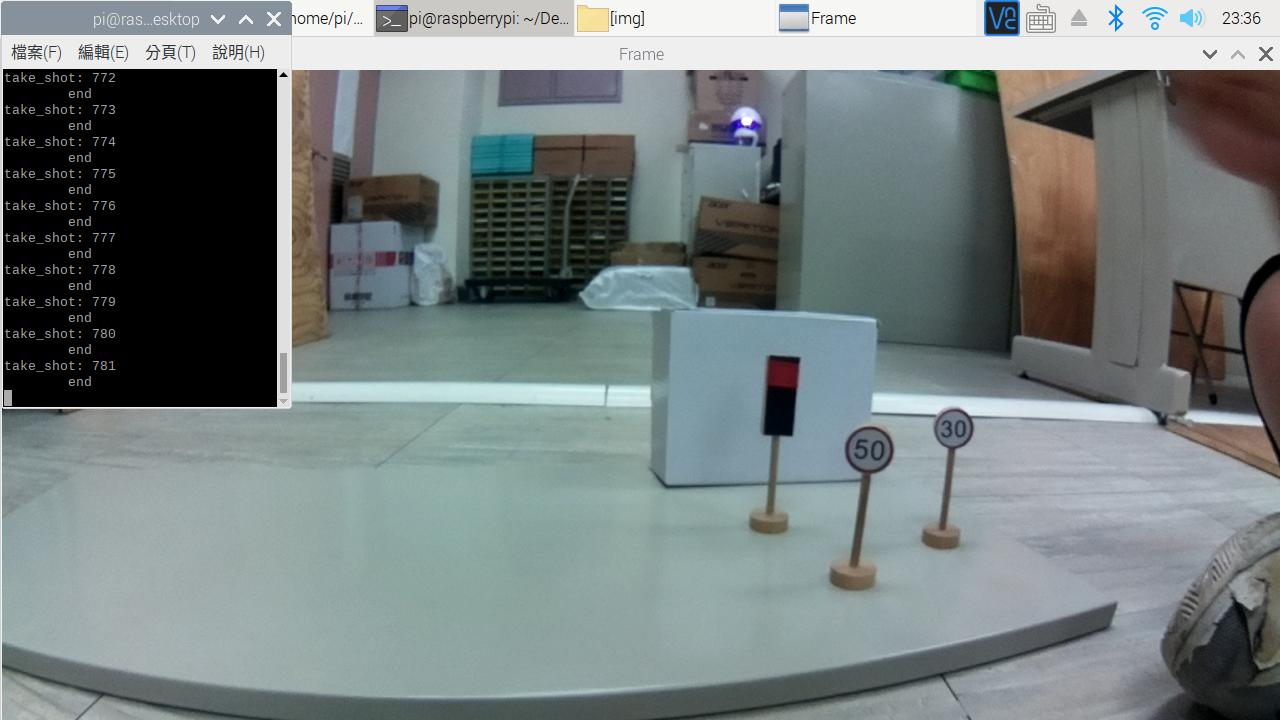Red: (748, 347, 812, 446)
Speed30: (929, 398, 985, 451)
Speed50: (839, 422, 908, 479)
